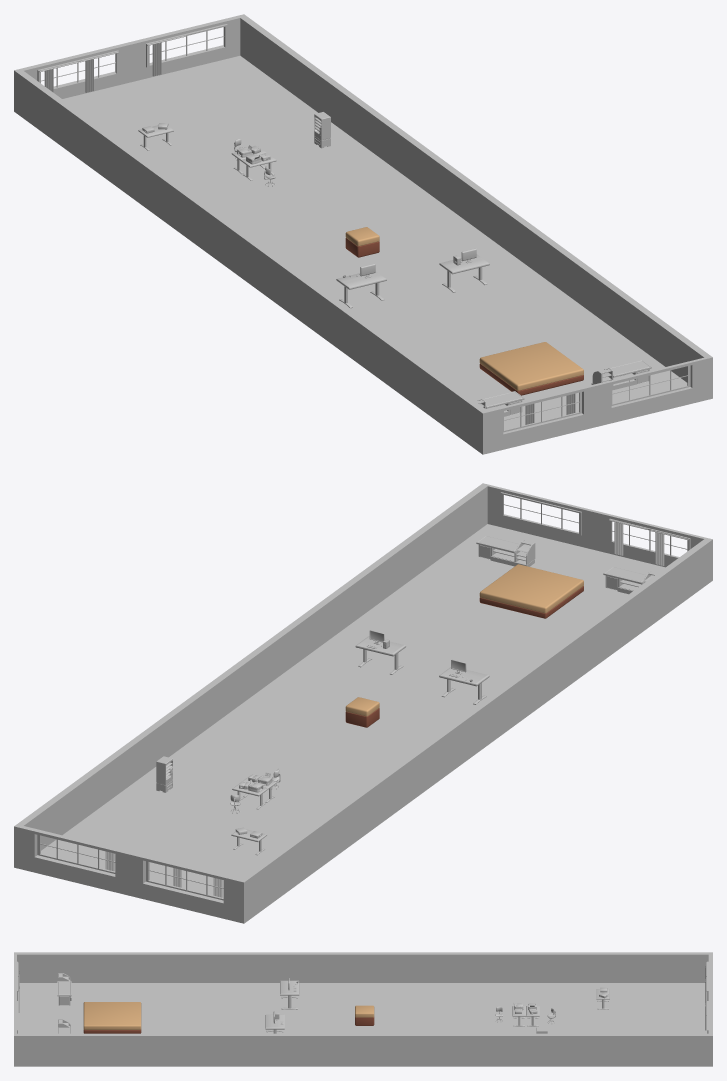
File: floors.gltf
The picture shows the model from 3 angles, top to bottom: view 1: azimuth 30°, elevation 25°; view 2: azimuth 150°, elevation 25°; view 3: azimuth 270°, elevation 25°; orthographic projection. The views are drawn at different scales.
Visible parts, largest first — view 1: Plane.001, Plane.002, tileLarge_desert, Cube.001, tileMedium_desert.001, Cube.109, Cube.016; view 2: Plane.001, Plane.002, tileLarge_desert, Cube.001, Cube.005, tileMedium_desert.001, Cube.109, Cube.016; view 3: Plane.001, Plane.002, tileLarge_desert, Cube.005, Cube.109, tileMedium_desert.001, Cube.016.
Part boxes in pixels (left/top/right/bottom): Plane.001: left=14, top=14, right=524, bottom=316; Plane.002: left=295, top=220, right=712, bottom=454; tileLarge_desert: left=479, top=342, right=583, bottom=395; Cube.001: left=591, top=360, right=651, bottom=390; tileMedium_desert.001: left=345, top=227, right=379, bottom=257; Cube.109: left=336, top=271, right=386, bottom=308; Cube.016: left=439, top=254, right=489, bottom=292; Plane.001: left=14, top=620, right=525, bottom=923; Plane.002: left=295, top=483, right=712, bottom=717; tileLarge_desert: left=479, top=564, right=583, bottom=618; Cube.001: left=476, top=535, right=535, bottom=566; Cube.005: left=603, top=566, right=657, bottom=594; tileMedium_desert.001: left=345, top=697, right=379, bottom=727; Cube.109: left=439, top=667, right=489, bottom=704; Cube.016: left=355, top=636, right=406, bottom=674; Plane.001: left=293, top=952, right=712, bottom=1066; Plane.002: left=14, top=952, right=293, bottom=1066; tileLarge_desert: left=83, top=1002, right=141, bottom=1033; Cube.005: left=57, top=973, right=71, bottom=1005; Cube.109: left=280, top=980, right=299, bottom=1009; tileMedium_desert.001: left=355, top=1005, right=374, bottom=1025; Cube.016: left=265, top=1014, right=284, bottom=1033.
Bounding box in the file's own units: 20.66 × 3.54 × 72.91.
